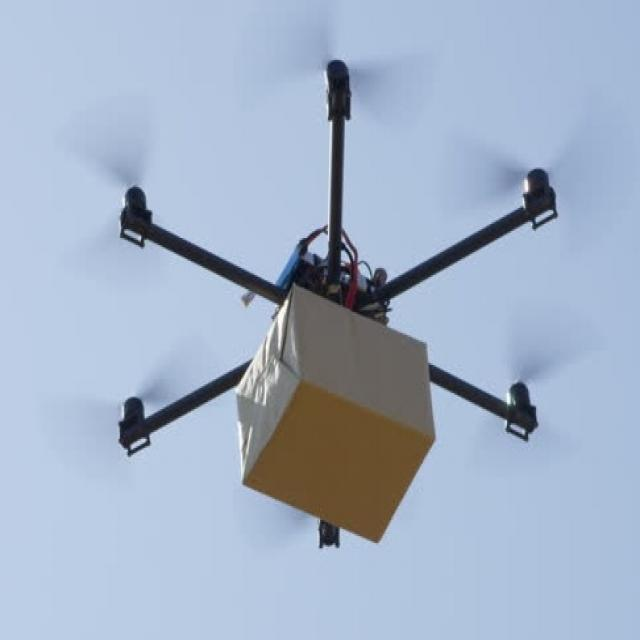drone: (95, 24, 588, 564)
